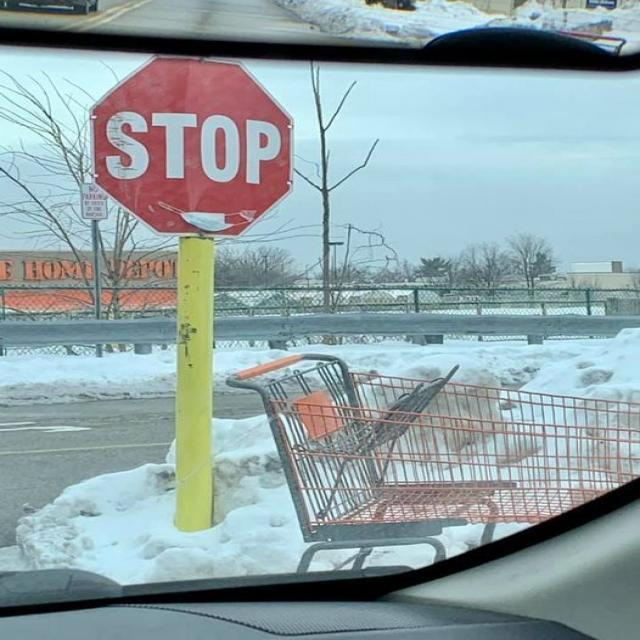stop: (82, 57, 296, 239)
